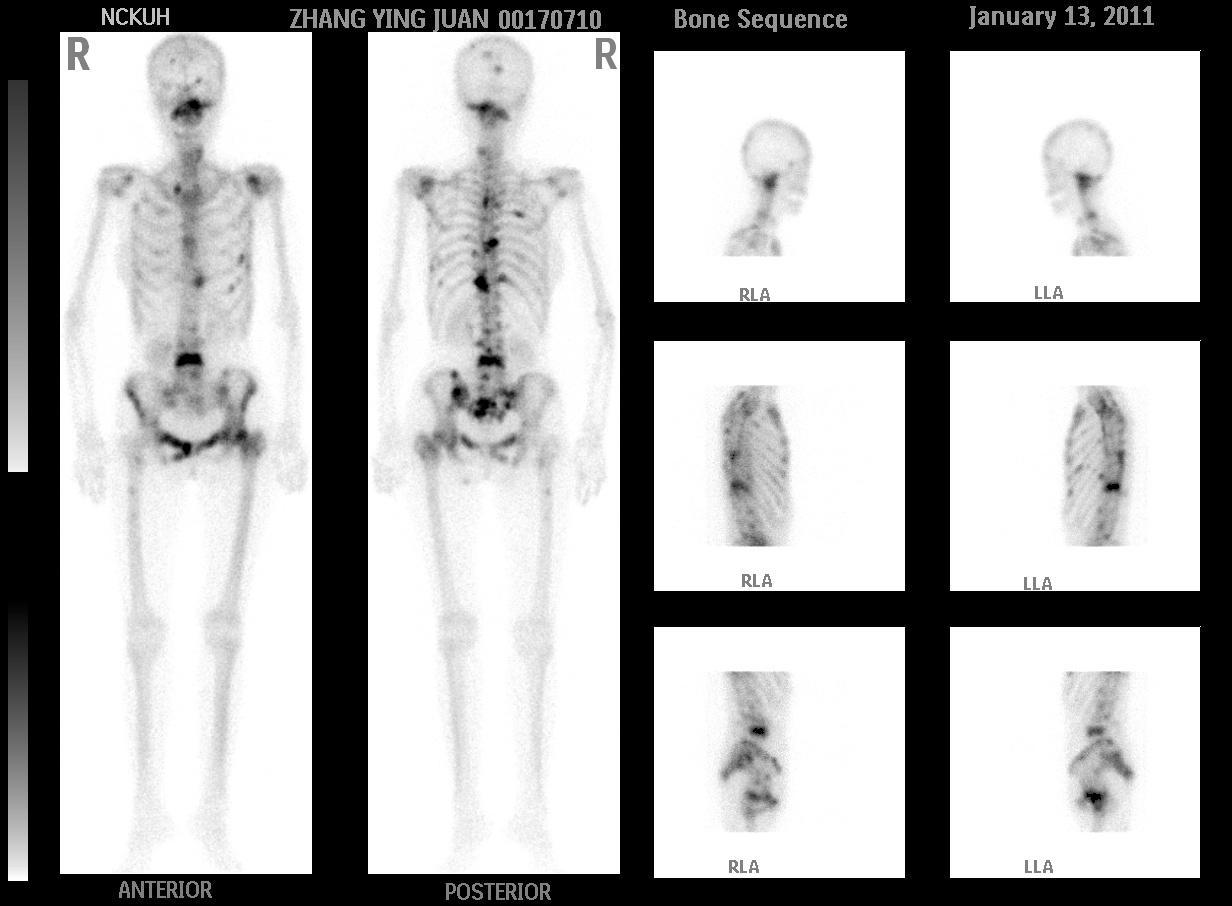person: (59, 32, 620, 873)
